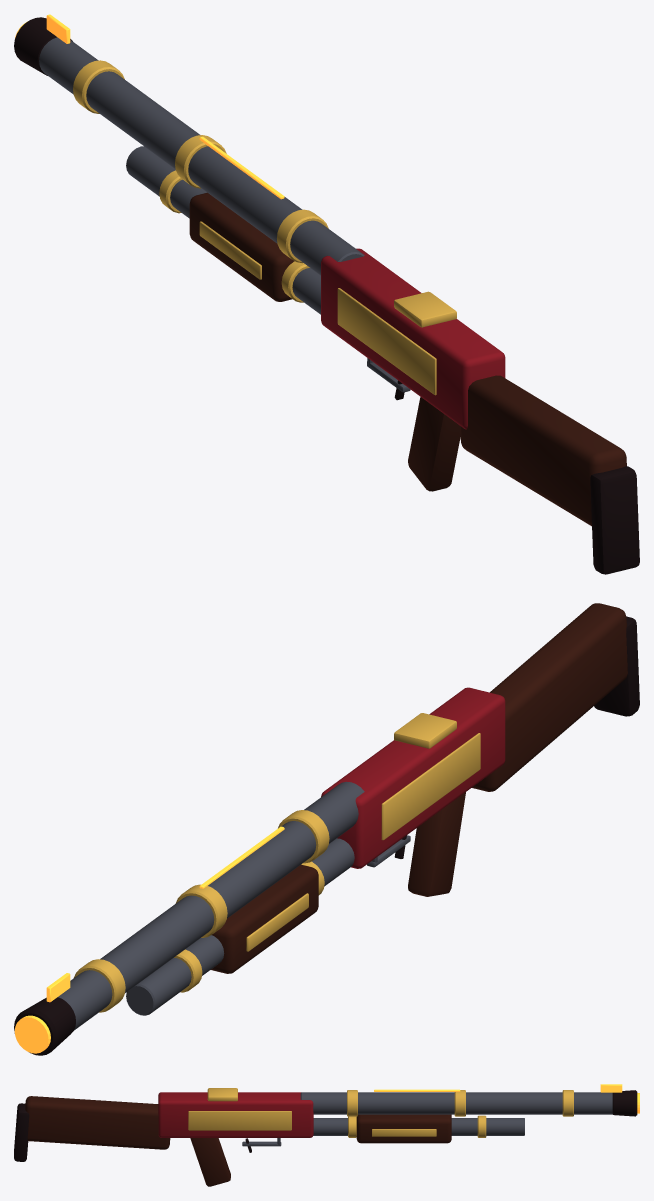
The model's file is felwinter.glb.
The picture shows the model from 3 angles, top to bottom: view 1: azimuth 30°, elevation 25°; view 2: azimuth 150°, elevation 25°; view 3: azimuth 270°, elevation 25°; orthographic projection. The views are drawn at different scales.
Parts seen in each view (by area): view 1: walnut, steel, crimson, gold, dark, ember; view 2: walnut, steel, crimson, gold, dark, ember; view 3: walnut, steel, crimson, gold, dark, ember.
Boxes of the visible parts, x1,y1,x2,y2 form: walnut: (189,192,626,526); steel: (39,37,410,392); crimson: (321,248,505,429); gold: (73,60,456,395); dark: (14,17,639,574); ember: (15,14,284,199); walnut: (211,603,627,973); steel: (58,781,410,1030); crimson: (321,687,505,868); gold: (74,713,480,1012); dark: (14,616,639,1055); ember: (14,826,284,1053); walnut: (25,1096,451,1186); steel: (242,1092,612,1146); crimson: (158,1092,313,1137); gold: (188,1088,573,1137); dark: (14,1090,637,1161); ember: (374,1084,639,1113).
Size of the model in its own units: 0.07 by 0.2562 by 1.45.
